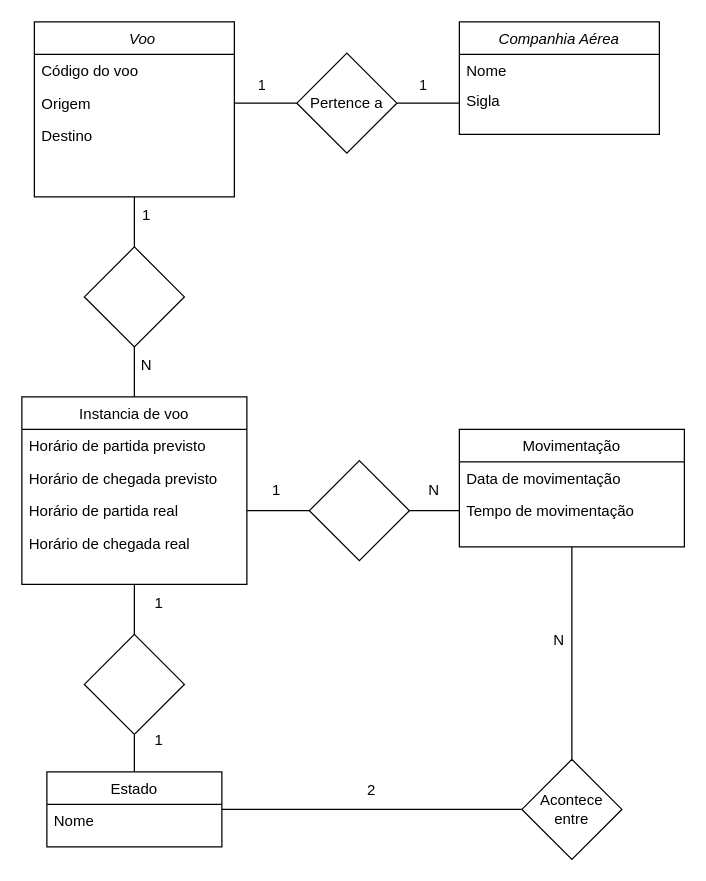
This 706x881 diagram has some shape labels left out. The centre of each missing label's shape, as x and y in pixels:
Está em: point 133,683
Passa por: point 358,510
Tem: point 133,296
